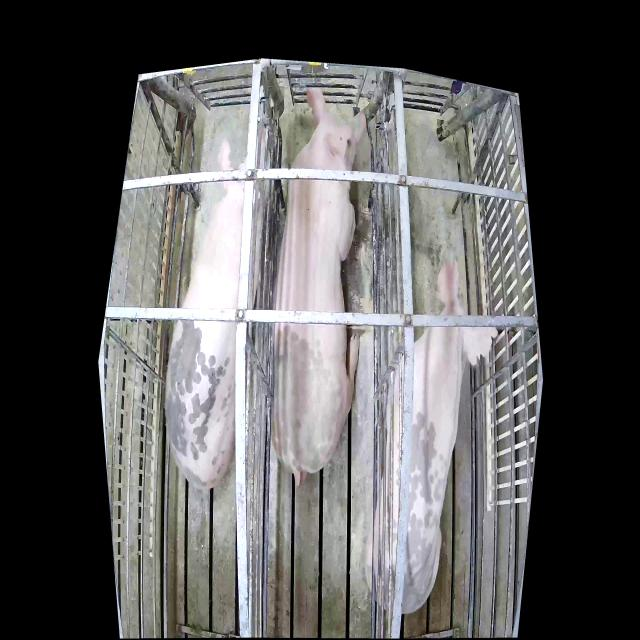pig: (366, 258, 498, 615), (272, 89, 370, 487), (166, 127, 272, 489)
